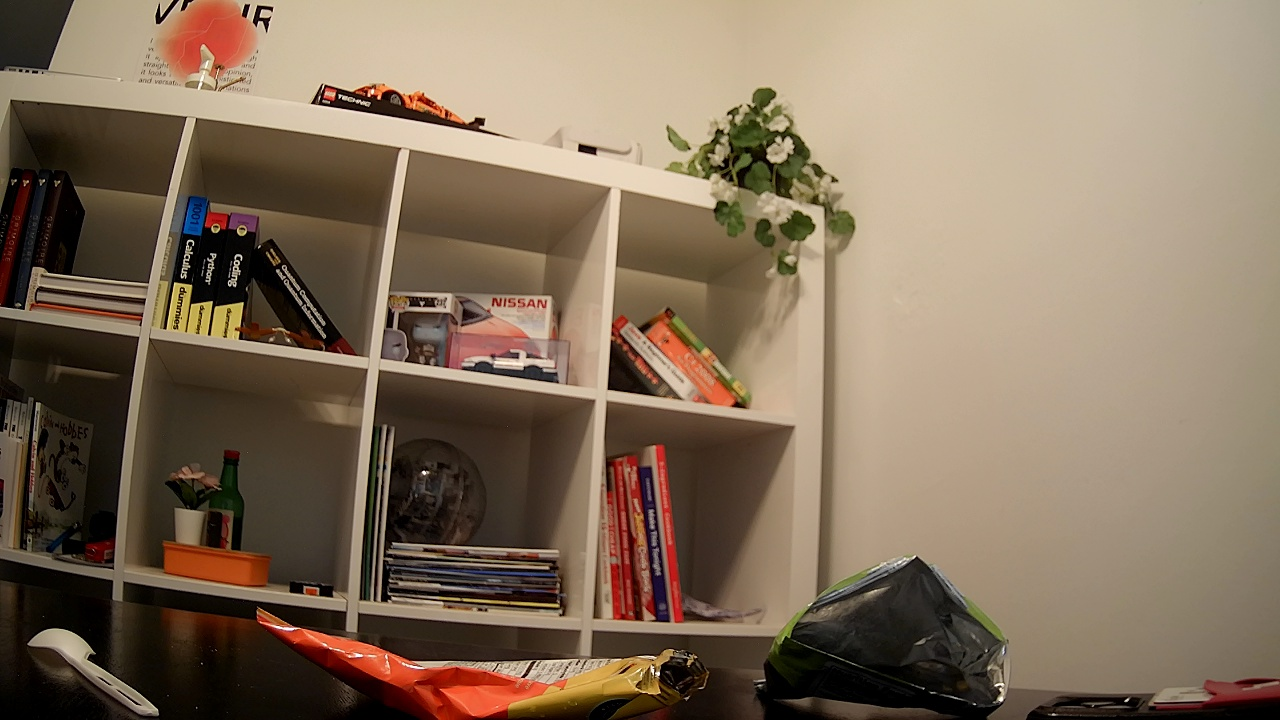trash: (226, 588, 723, 717), (761, 574, 1004, 716), (21, 613, 206, 720)
